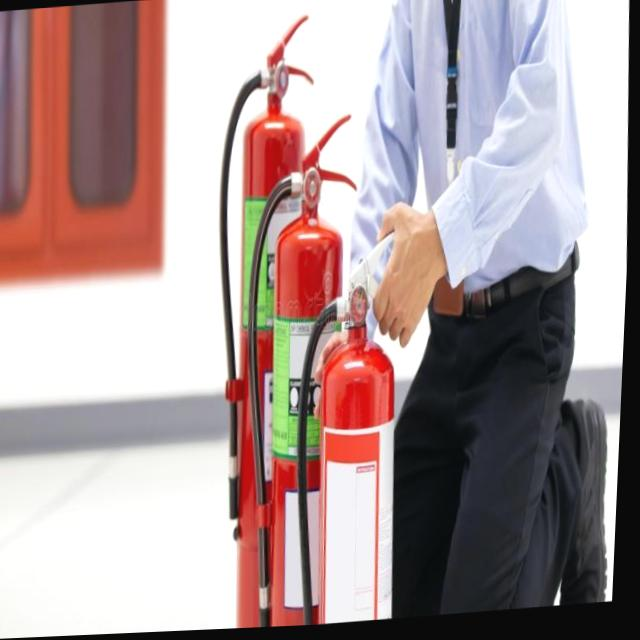FireExtinguisher: (198, 12, 338, 632), (232, 111, 377, 631), (284, 224, 432, 628)
